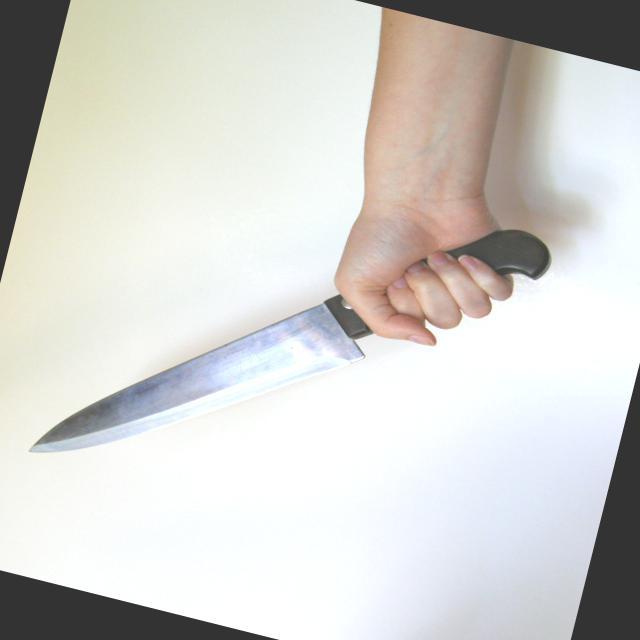knife: (19, 155, 524, 560)
